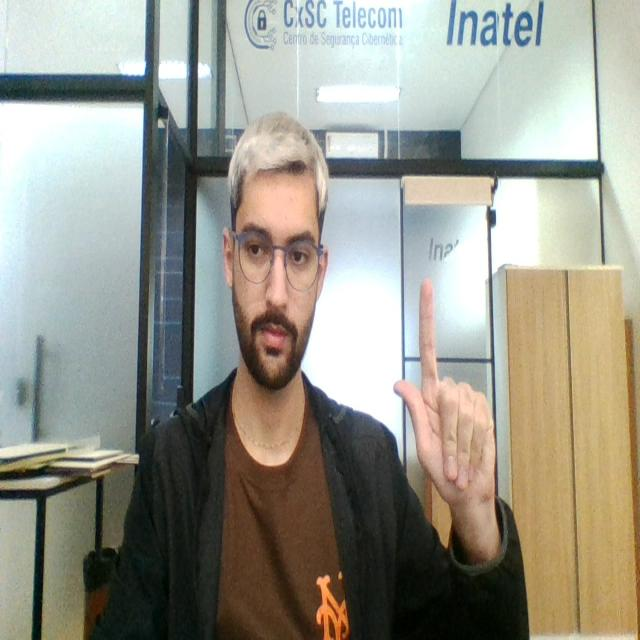G: (391, 274, 502, 508)
